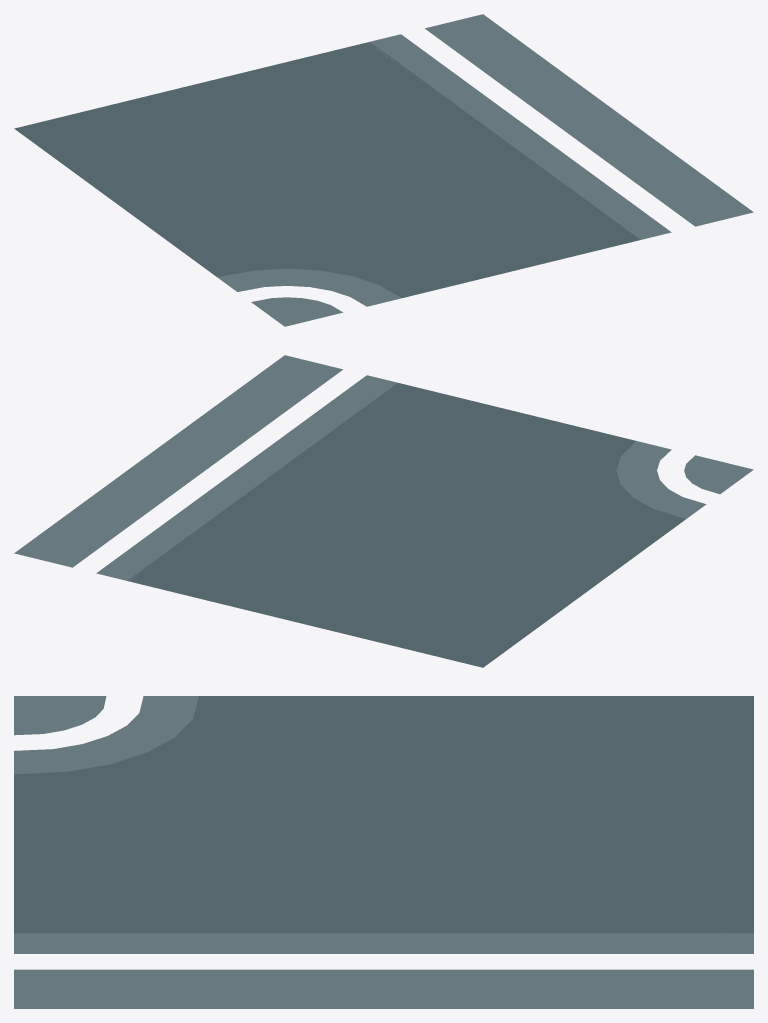
The model's file is Ceiling_type_C_034_002.glb.
3 renders of one model, top to bottom at view 1: azimuth 30°, elevation 25°; view 2: azimuth 150°, elevation 25°; view 3: azimuth 270°, elevation 25°, orthographic. The views are drawn at different scales.
Parts seen in each view (by area): view 1: Ceiling_type_C_034.002; view 2: Ceiling_type_C_034.002; view 3: Ceiling_type_C_034.002.
Boxes of the visible parts, x1=… form: Ceiling_type_C_034.002: x1=14, y1=14, x2=753, y2=326; Ceiling_type_C_034.002: x1=14, y1=355, x2=753, y2=667; Ceiling_type_C_034.002: x1=14, y1=696, x2=753, y2=1008.
Size of the model in its own units: 4 by 0.012 by 4.
Materials: 2 (2 with a texture image).
